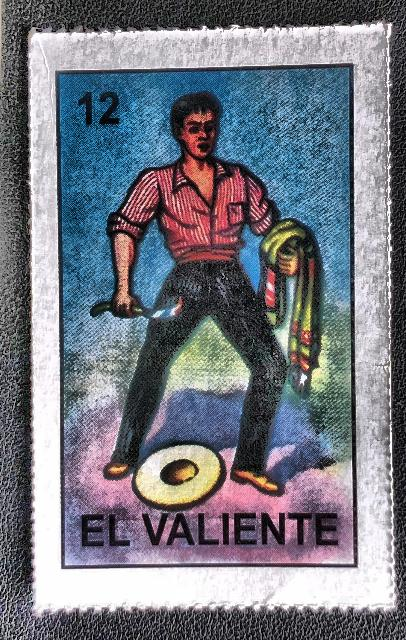El Valiente: (41, 44, 384, 594)
